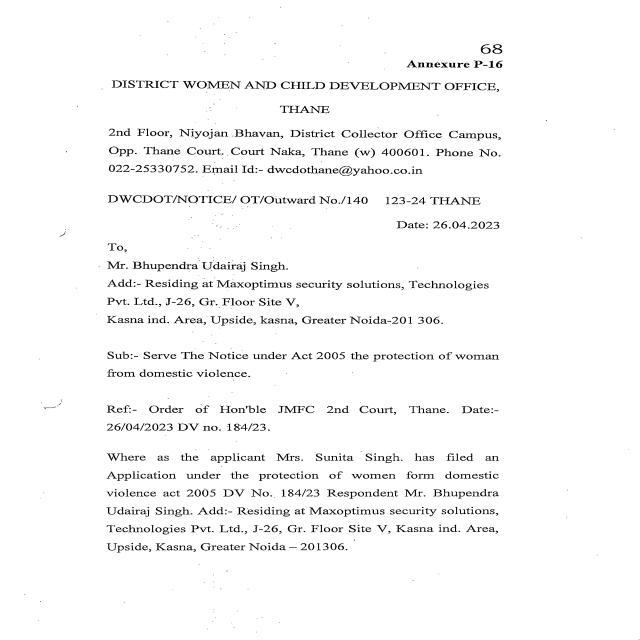page-number: (308, 0, 640, 59)
